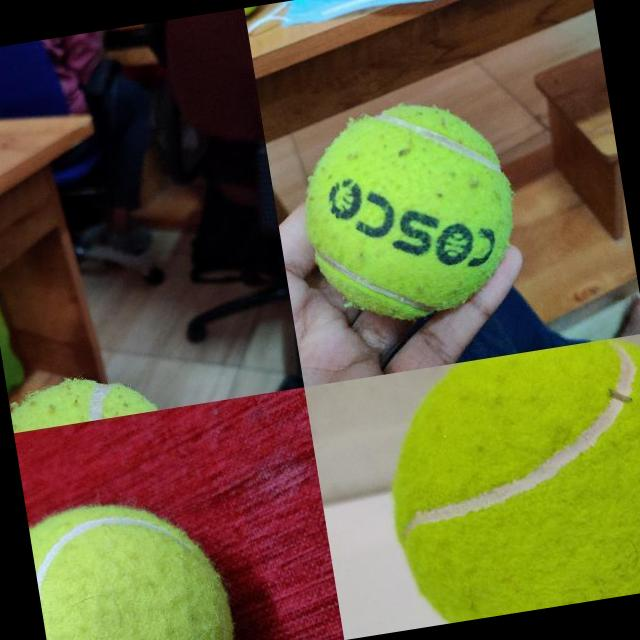Tennis Ball: (369, 333, 640, 629), (290, 86, 530, 332), (26, 484, 239, 640)
